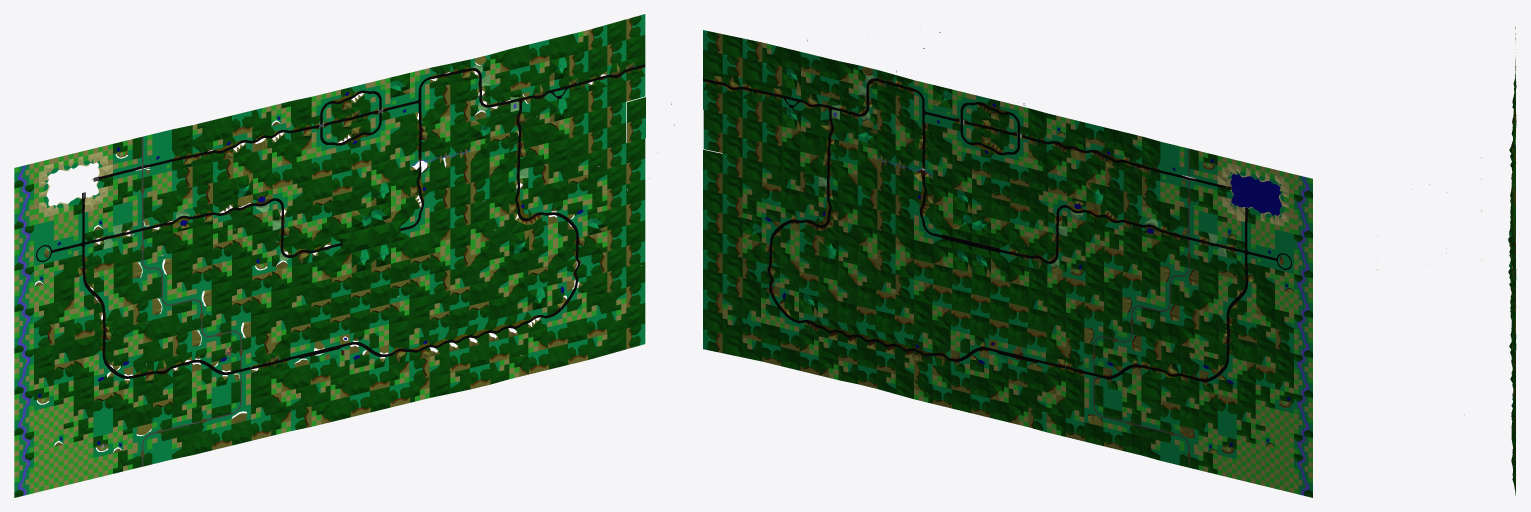
Rendered from Pacific_Course_5.obj.
3 views of the same model, side by side, from view 1: azimuth 30°, elevation 25°; view 2: azimuth 150°, elevation 25°; view 3: azimuth 270°, elevation 25° (orthographic). The views are drawn at different scales.
Size of the model in its own units: 131 by 65.54 by 41.63.
